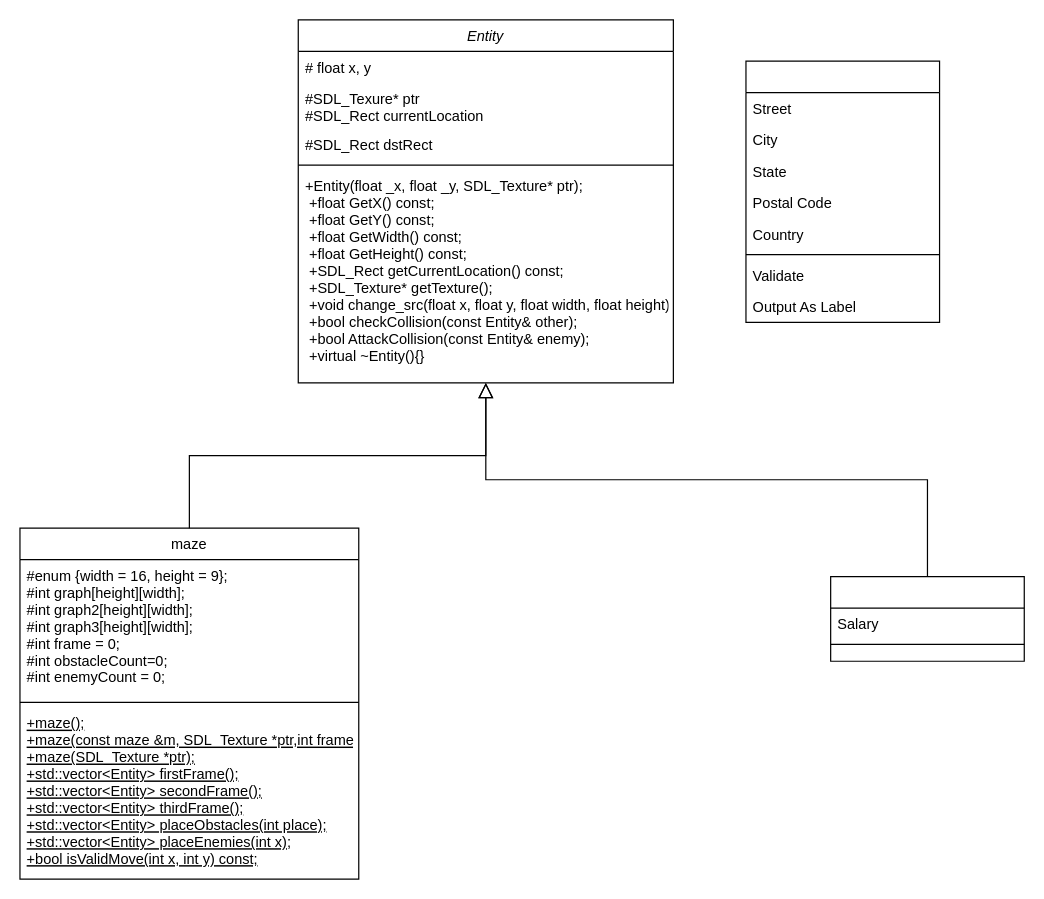
Some shapes in this 1044 by 899 pixel diagram are drawn without their labels. Each missing label, with the box of its shape:
Address: (745, 60, 940, 322)
Professor: (829, 575, 1024, 661)
